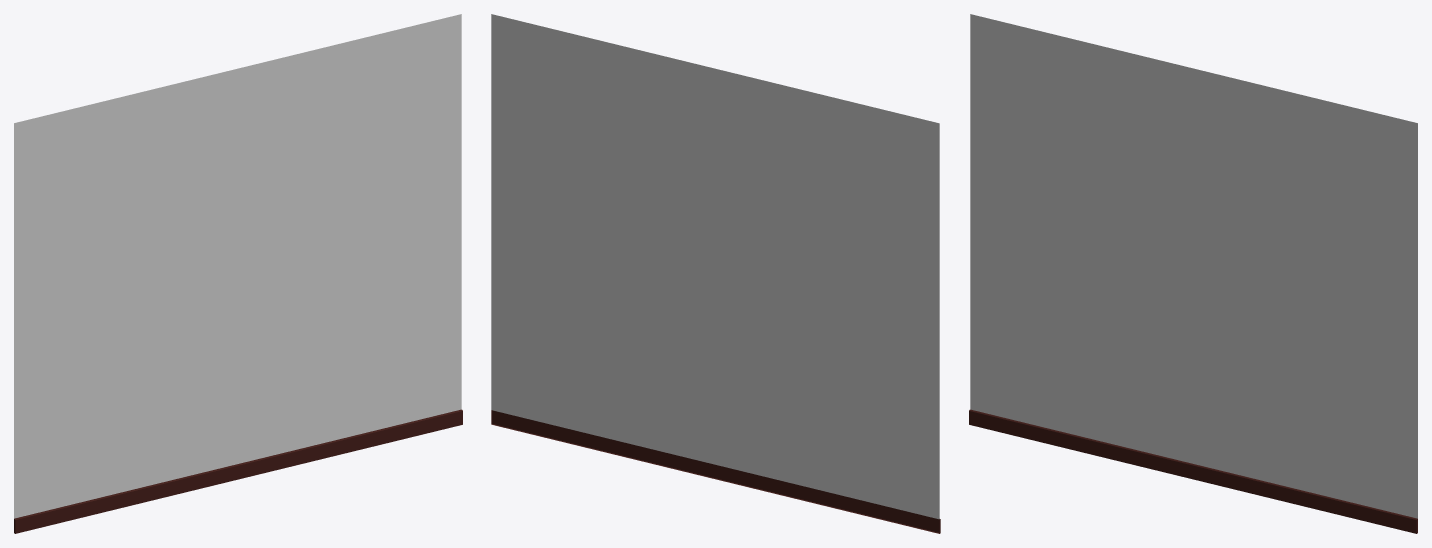
The model's file is Hallway_Wall.014.fbx.
3 renders of one model, left to right at view 1: azimuth 30°, elevation 25°; view 2: azimuth 150°, elevation 25°; view 3: azimuth 330°, elevation 25°, orthographic.
Visible parts, largest first — view 1: Hallway_Wall.014; view 2: Hallway_Wall.014; view 3: Hallway_Wall.014.
Part boxes in pixels (left/top/right/bottom): Hallway_Wall.014: left=14, top=14, right=462, bottom=533; Hallway_Wall.014: left=491, top=14, right=940, bottom=533; Hallway_Wall.014: left=969, top=14, right=1417, bottom=533.
Size of the model in its own units: 314 by 275 by 1.33.
